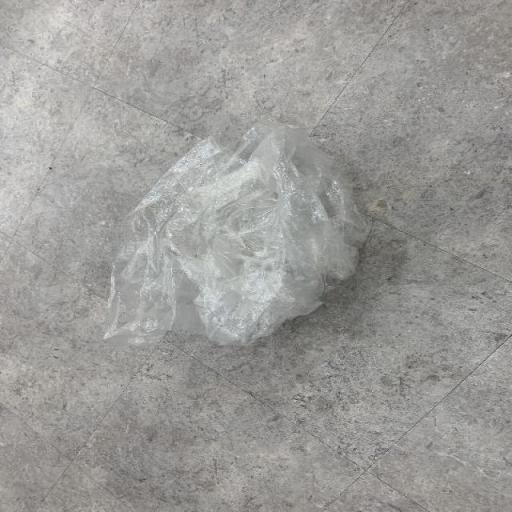plastic-bag: (98, 114, 374, 353)
